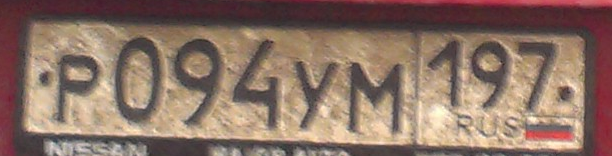character: (231, 37, 285, 132), (347, 57, 407, 137), (172, 37, 224, 128), (115, 34, 163, 129), (292, 58, 339, 134), (55, 51, 100, 127), (517, 37, 558, 109), (471, 41, 511, 110), (427, 37, 463, 108)
